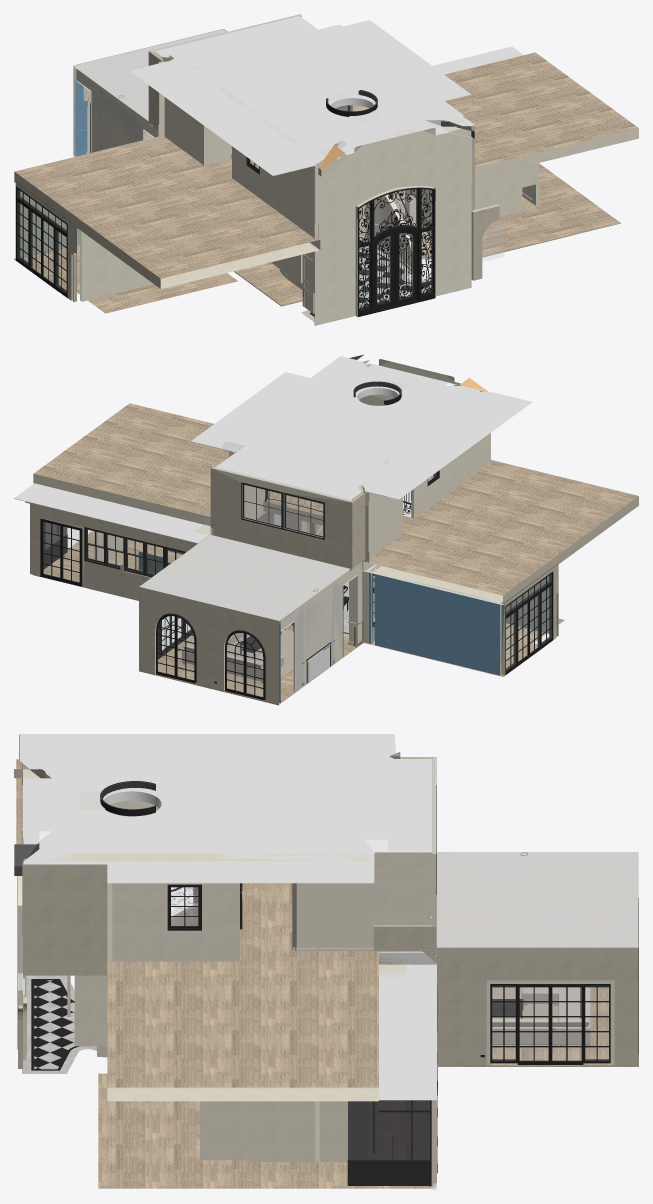
Rendered from family-room-521cfc317282.glb.
3 renders of one model, top to bottom at view 1: azimuth 30°, elevation 25°; view 2: azimuth 150°, elevation 25°; view 3: azimuth 270°, elevation 25°, orthographic. The views are drawn at different scales.
Visible parts, largest first — view 1: family-room-look-2575515a05775d9e, family-room-look-e8793759323e04f0, family-room-look-9d91b47435c6fb33, family-room-look-34525a54e63b733b, family-room-look-3b0077416469e01b, family-room-look-d5a4a1b5d3594c04, family-room-look-5f56640b372ec5ce, family-room-look-746250f96522f643, family-room-4a969f5cc1ae3dfe, family-room-look-bce662e26d5a5947, family-room-look-d999b7e09afcf2f4, family-room-9d80b152e3f2ea10 (+30 smaller); view 2: family-room-look-2575515a05775d9e, family-room-look-e8793759323e04f0, family-room-look-9d91b47435c6fb33, family-room-4a969f5cc1ae3dfe, family-room-look-b19b106fc304963c, family-room-look-245f595ae2832e16, family-room-969b861f9850351e, family-room-look-bfb9fa537cd11d1d, family-room-look-9a0e9ee9b2a451d7, family-room-9d80b152e3f2ea10, family-room-look-5f56640b372ec5ce, family-room-55ff1dfd7b659ec1 (+27 smaller); view 3: family-room-look-2575515a05775d9e, family-room-look-e8793759323e04f0, family-room-look-9d91b47435c6fb33, family-room-4a969f5cc1ae3dfe, family-room-look-3b0077416469e01b, family-room-e706aa16b4547c37, family-room-look-62353aa10fc57f23, family-room-50d54560d247b537, family-room-look-c51ecd664a3b22a3, family-room-look-9a0e9ee9b2a451d7, family-room-look-5f56640b372ec5ce, family-room-look-69af8f587252f9fa (+28 smaller).
Part boxes in pixels (x1,y1,x2,y2): family-room-look-2575515a05775d9e: (14, 52, 638, 288); family-room-look-e8793759323e04f0: (180, 23, 463, 157); family-room-look-9d91b47435c6fb33: (130, 16, 474, 175); family-room-look-34525a54e63b733b: (314, 126, 471, 244); family-room-look-3b0077416469e01b: (14, 163, 620, 306); family-room-look-d5a4a1b5d3594c04: (314, 208, 471, 325); family-room-look-5f56640b372ec5ce: (254, 81, 404, 139); family-room-look-746250f96522f643: (232, 146, 317, 238); family-room-4a969f5cc1ae3dfe: (73, 29, 226, 120); family-room-look-bce662e26d5a5947: (357, 187, 435, 316); family-room-look-d999b7e09afcf2f4: (80, 230, 153, 301); family-room-9d80b152e3f2ea10: (76, 69, 158, 152); family-room-look-2575515a05775d9e: (33, 403, 638, 604); family-room-look-e8793759323e04f0: (222, 356, 481, 481); family-room-look-9d91b47435c6fb33: (191, 362, 532, 500); family-room-4a969f5cc1ae3dfe: (139, 534, 349, 621); family-room-look-b19b106fc304963c: (375, 573, 501, 675); family-room-look-245f595ae2832e16: (210, 467, 352, 568); family-room-969b861f9850351e: (139, 587, 280, 704); family-room-look-bfb9fa537cd11d1d: (30, 502, 197, 600); family-room-look-9a0e9ee9b2a451d7: (14, 483, 208, 543); family-room-9d80b152e3f2ea10: (280, 562, 362, 690); family-room-look-5f56640b372ec5ce: (324, 377, 464, 430); family-room-55ff1dfd7b659ec1: (281, 562, 362, 692); family-room-look-2575515a05775d9e: (16, 759, 378, 1101); family-room-look-e8793759323e04f0: (39, 756, 388, 861); family-room-look-9d91b47435c6fb33: (19, 734, 431, 883); family-room-4a969f5cc1ae3dfe: (436, 852, 638, 948); family-room-look-3b0077416469e01b: (98, 920, 436, 1188); family-room-e706aa16b4547c37: (437, 948, 633, 1065); family-room-look-62353aa10fc57f23: (23, 865, 112, 975); family-room-50d54560d247b537: (436, 852, 638, 948); family-room-look-c51ecd664a3b22a3: (112, 883, 239, 961); family-room-look-9a0e9ee9b2a451d7: (379, 964, 436, 1100); family-room-look-5f56640b372ec5ce: (83, 756, 196, 825); family-room-look-69af8f587252f9fa: (292, 883, 373, 947).
Bounding box in the file's own units: 21.02 × 7.02 × 16.88.
69 materials, 12 textured.
